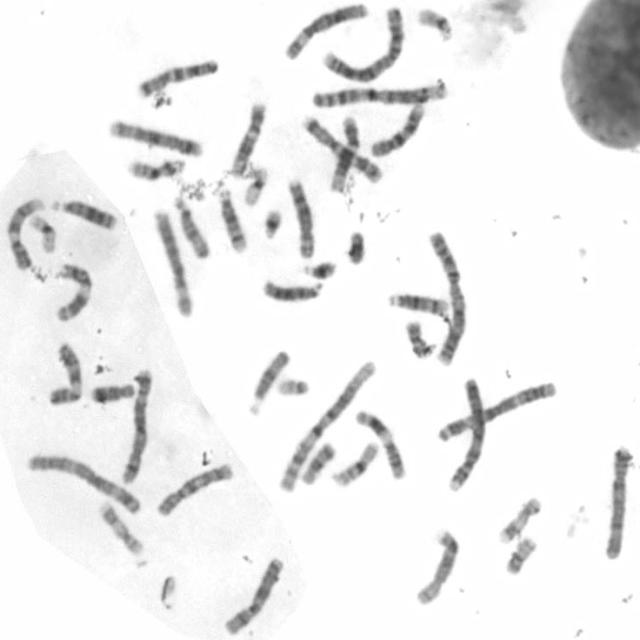A1: (274, 354, 379, 494), (308, 77, 449, 110)
A2: (318, 2, 406, 84), (425, 227, 470, 366)
A3: (433, 376, 561, 444), (22, 450, 144, 518)
B4: (444, 373, 489, 492), (599, 441, 633, 561)
B5: (118, 363, 155, 487), (106, 115, 204, 157)
C10: (151, 459, 236, 519), (367, 98, 428, 159)
C11: (351, 406, 408, 480), (51, 259, 94, 323)
C12: (228, 98, 268, 178), (326, 112, 361, 194)
C6: (280, 0, 370, 62), (150, 204, 196, 318)
C7: (298, 112, 385, 184), (133, 54, 221, 98)
C8: (412, 525, 462, 608), (282, 173, 318, 260)
C9: (3, 194, 45, 273), (44, 337, 84, 407)
D13: (49, 193, 120, 231), (258, 274, 325, 304)
D14: (214, 185, 250, 255), (384, 288, 452, 316)
D15: (244, 344, 292, 416), (171, 192, 212, 261)
E16: (328, 437, 382, 488), (123, 154, 187, 181)
E17: (94, 495, 145, 555), (494, 492, 543, 546)
E18: (298, 438, 339, 486), (90, 379, 136, 405)
F19: (26, 210, 58, 254), (240, 161, 270, 207)
F20: (501, 532, 538, 577), (402, 316, 436, 360)
G21: (299, 255, 339, 281), (259, 203, 285, 241)
G22: (413, 4, 456, 43), (273, 373, 312, 398)
X: (219, 552, 286, 636)
Y: (343, 226, 368, 266)
